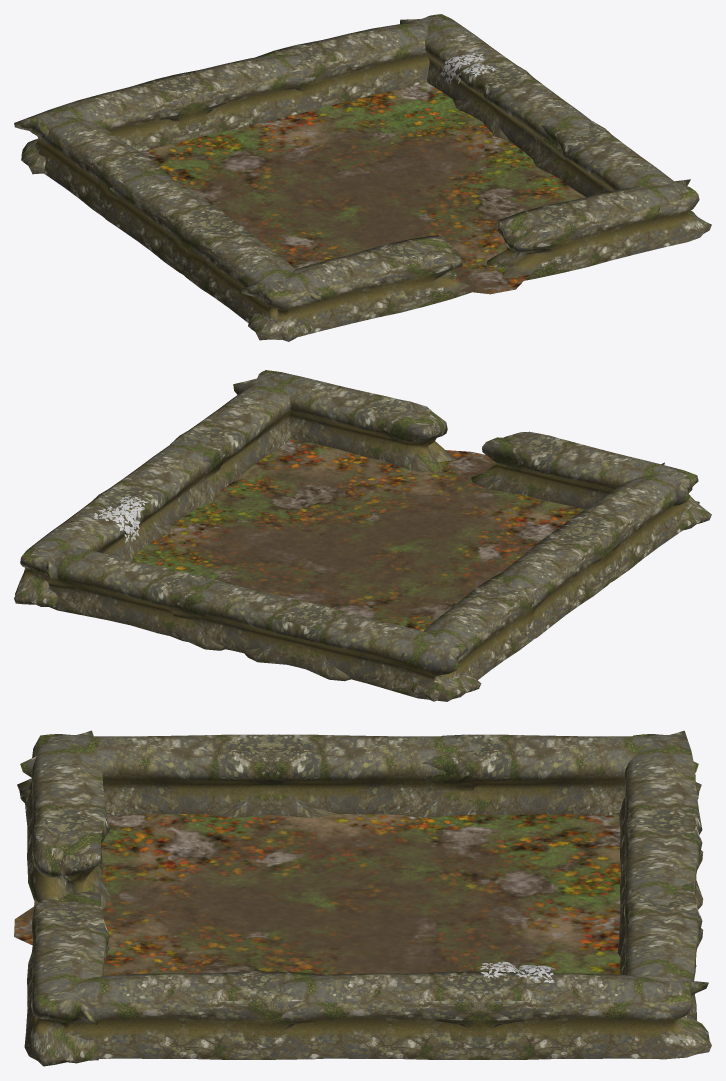
Rendered from Exterior_1_Puerta_Grande.fbx.
3 views of the same model, one above another, from view 1: azimuth 30°, elevation 25°; view 2: azimuth 150°, elevation 25°; view 3: azimuth 270°, elevation 25° (orthographic). The views are drawn at different scales.
Parts seen in each view (by area): view 1: polySurface105; view 2: polySurface105; view 3: polySurface105.
Part boxes in pixels (x1,y1,x2,y2): polySurface105: (14, 14, 711, 341); polySurface105: (14, 370, 711, 701); polySurface105: (14, 730, 711, 1066).
Size of the model in its own units: 503 by 57.98 by 513.
